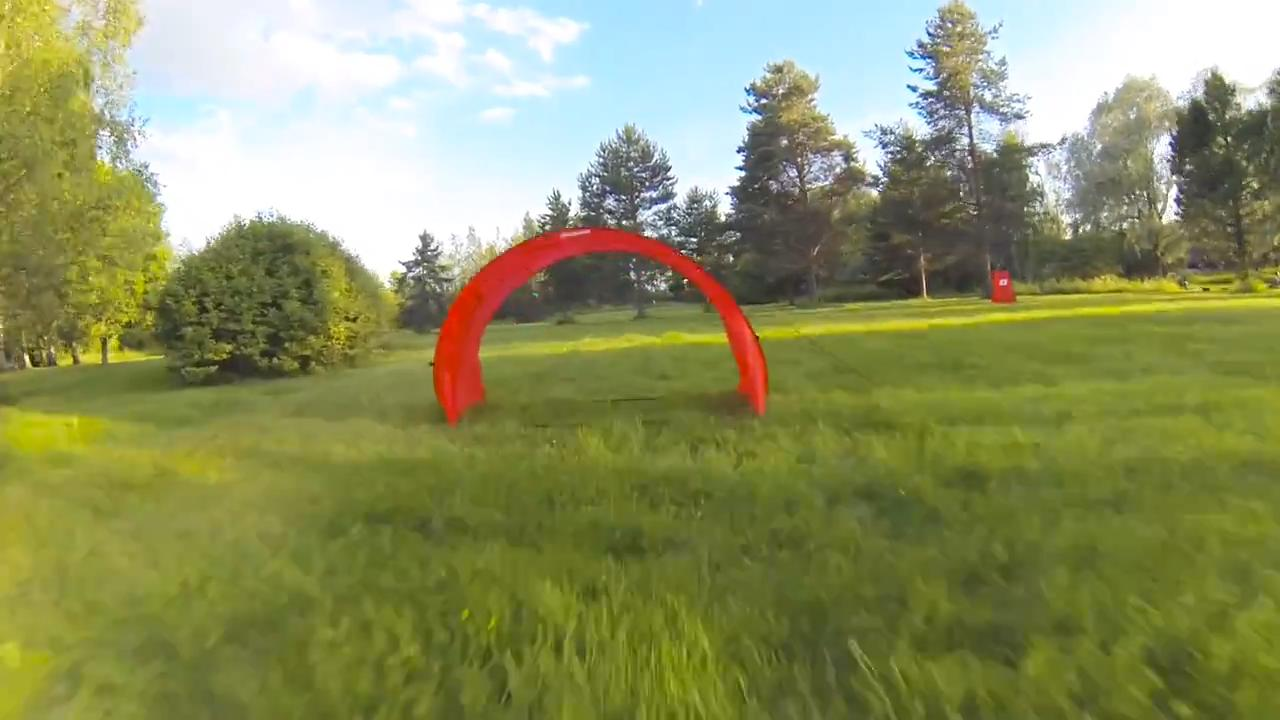gate: (431, 223, 773, 428)
